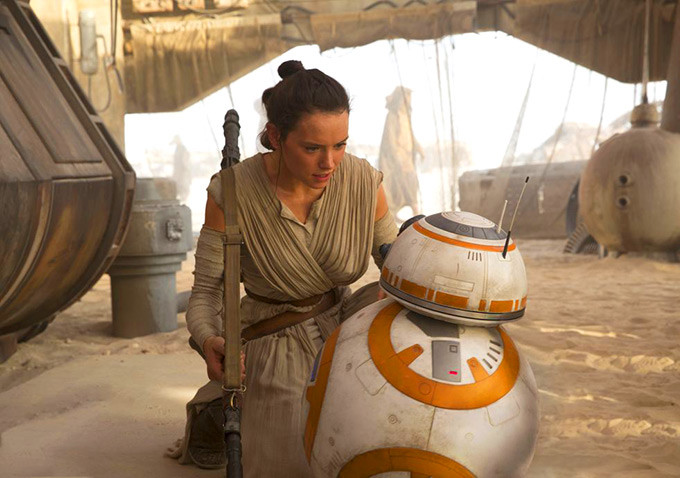bb8: (301, 211, 539, 478)
